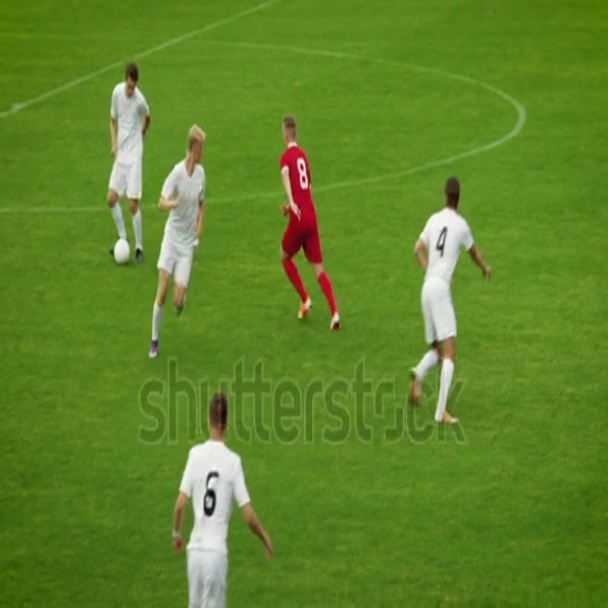ball: (114, 236, 131, 265)
